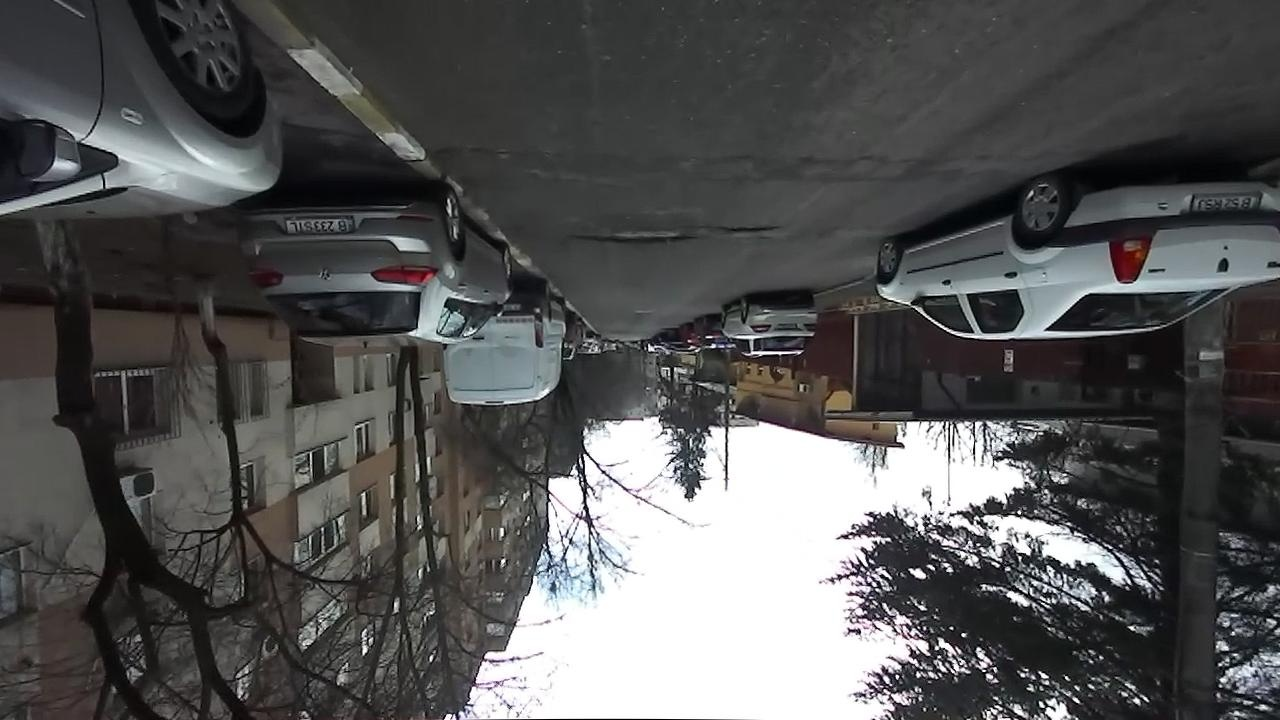pothole: (567, 225, 696, 247), (435, 141, 516, 164), (707, 222, 784, 236)
